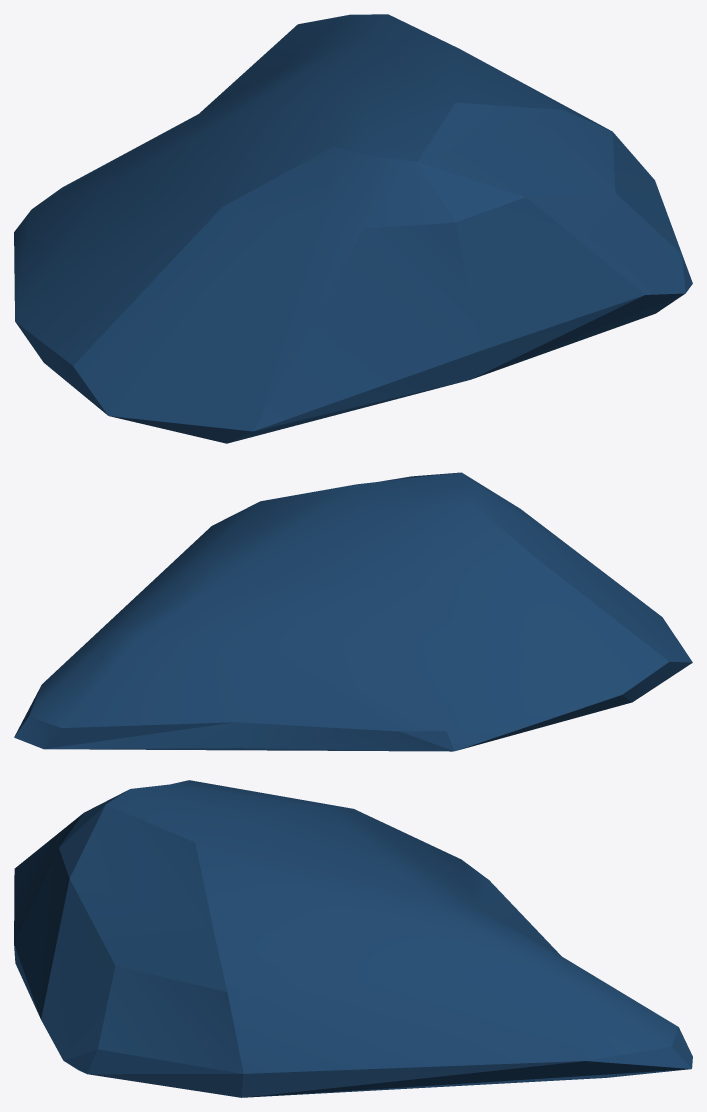
The model's file is M_Flatrock.fbx.
The picture shows the model from 3 angles, top to bottom: view 1: azimuth 30°, elevation 25°; view 2: azimuth 150°, elevation 25°; view 3: azimuth 270°, elevation 25°; orthographic projection. The views are drawn at different scales.
Visible parts, largest first — view 1: flatrock; view 2: flatrock; view 3: flatrock.
Part boxes in pixels (x1,y1,x2,y2): flatrock: [14, 14, 692, 443]; flatrock: [14, 472, 692, 751]; flatrock: [14, 780, 692, 1097].
Size of the model in its own units: 26.19 by 8.95 by 28.03.
